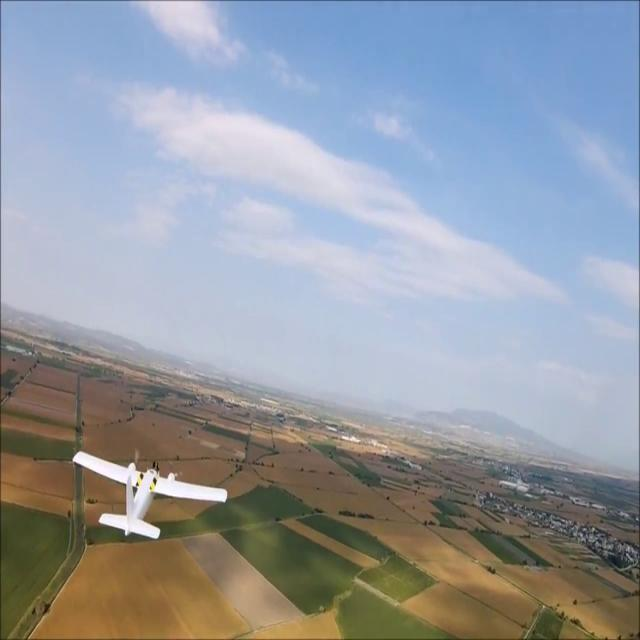iha: (73, 481, 229, 512)
